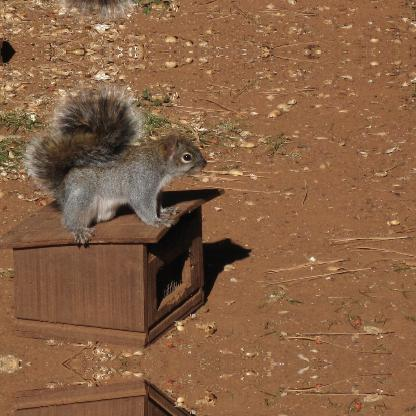Squirrel: (26, 84, 222, 248)
